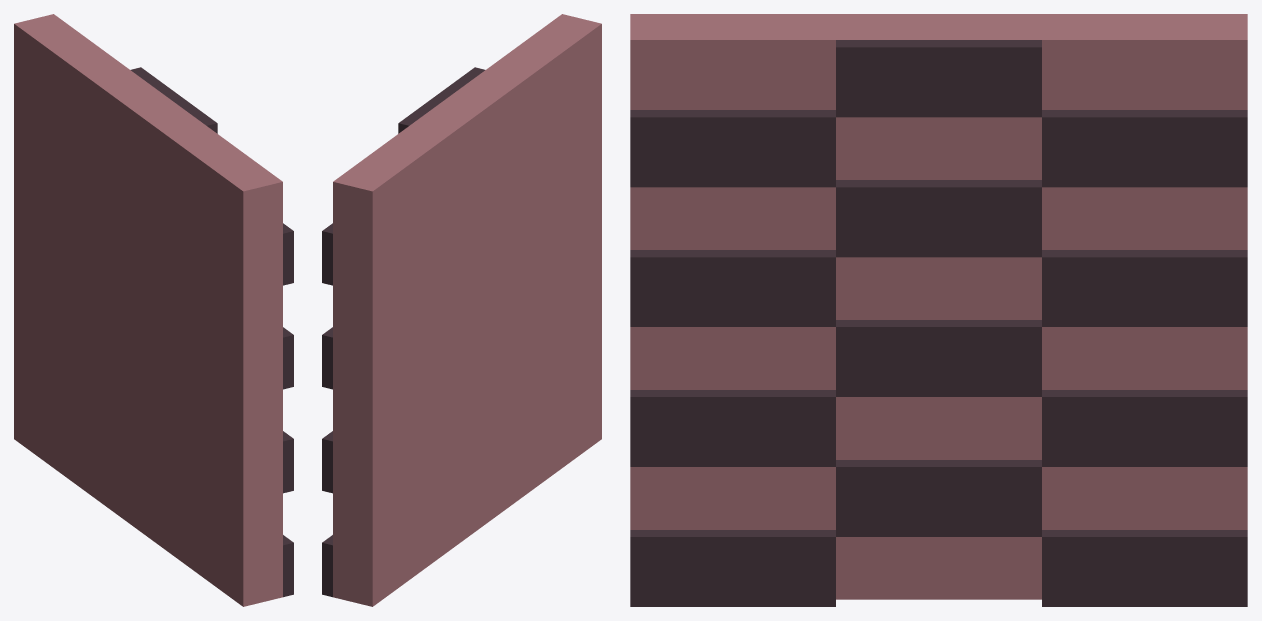
File: Gym Wall Exterior.fbx
The picture shows the model from 3 angles, left to right: view 1: azimuth 30°, elevation 25°; view 2: azimuth 150°, elevation 25°; view 3: azimuth 270°, elevation 25°; orthographic projection. The views are drawn at different scales.
Parts seen in each view (by area): view 1: Gym Wall Exterior; view 2: Gym Wall Exterior; view 3: Gym Wall Exterior.
Part boxes in pixels (x1=…): Gym Wall Exterior: x1=14, y1=14, x2=293, y2=606; Gym Wall Exterior: x1=322, y1=14, x2=601, y2=606; Gym Wall Exterior: x1=630, y1=14, x2=1247, y2=606.
Bounding box in the file's own units: 102 × 800 × 800.
